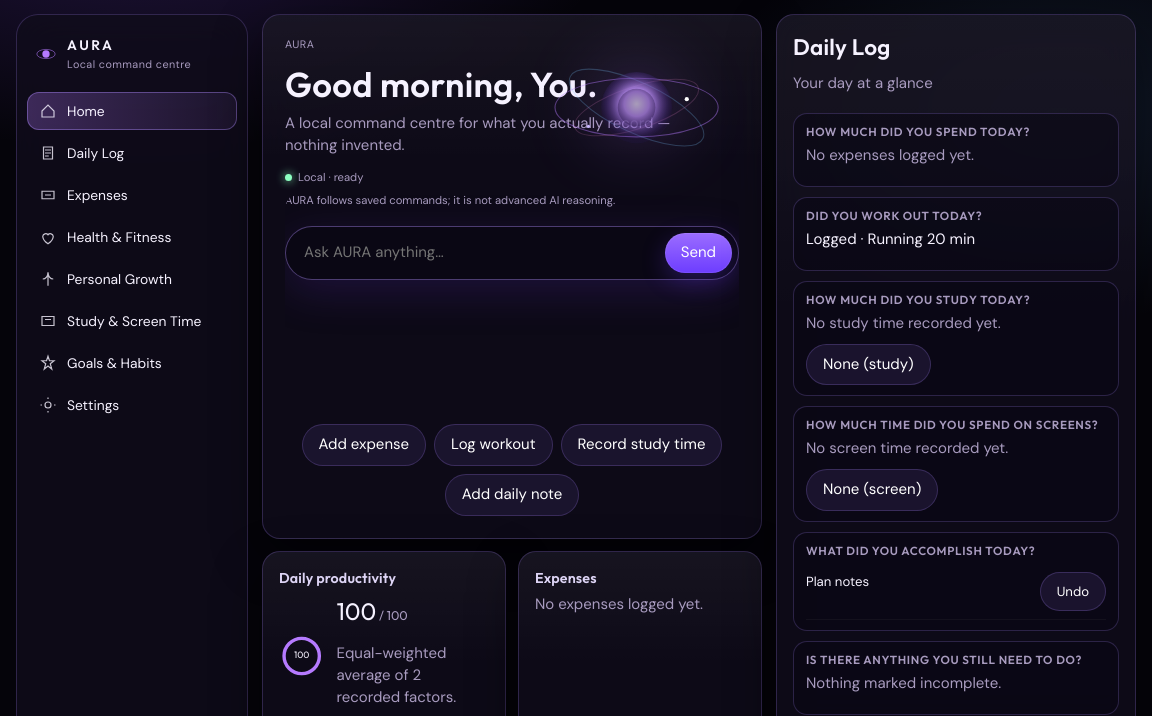
it: productivity score appears after two recorded factors and updates
Expected: the picture labelled "100" is shown, [279,608,324,704]
Click the button "Add daily note".
click(512, 495)  # box [445,474,579,516]
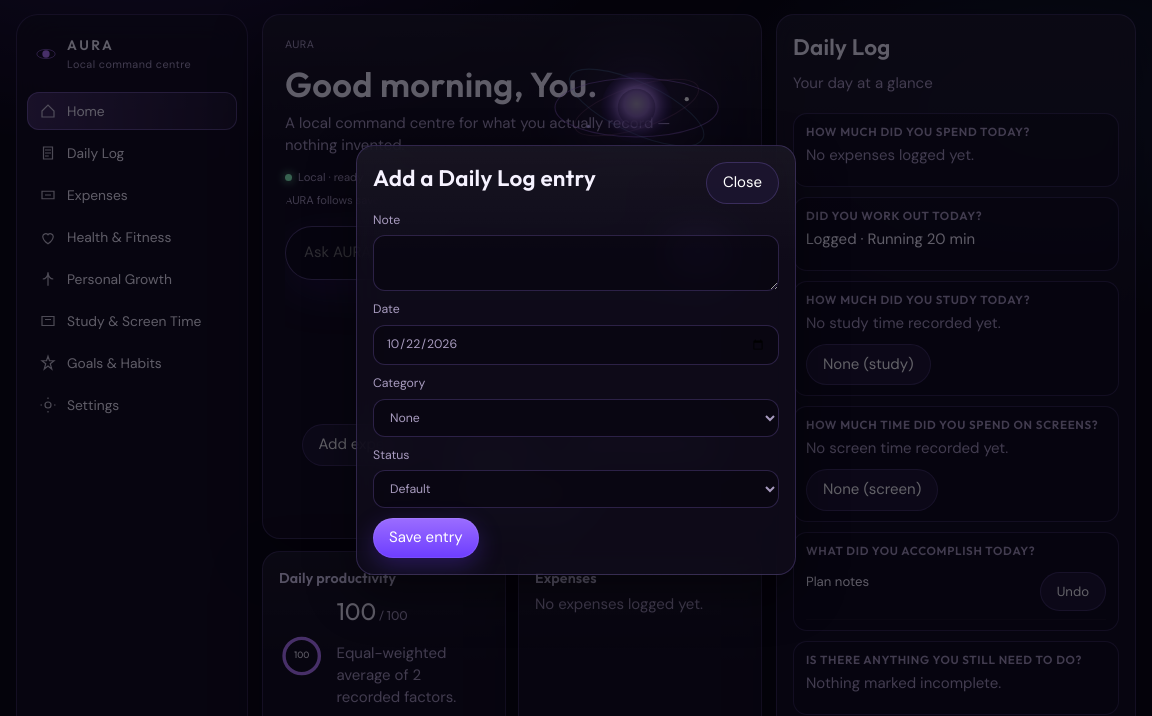
Expected: the dialog is shown, [356,145,796,575]
